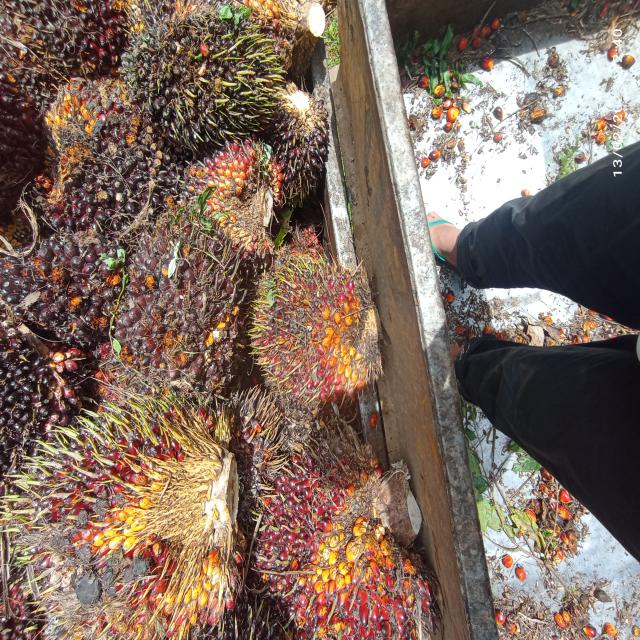fraksi 00: (120, 0, 300, 175), (0, 209, 123, 448), (111, 201, 249, 407), (38, 60, 180, 246), (264, 74, 358, 208)
fraksi 1: (5, 388, 259, 640), (248, 403, 452, 640), (241, 216, 408, 425), (185, 130, 293, 260)
